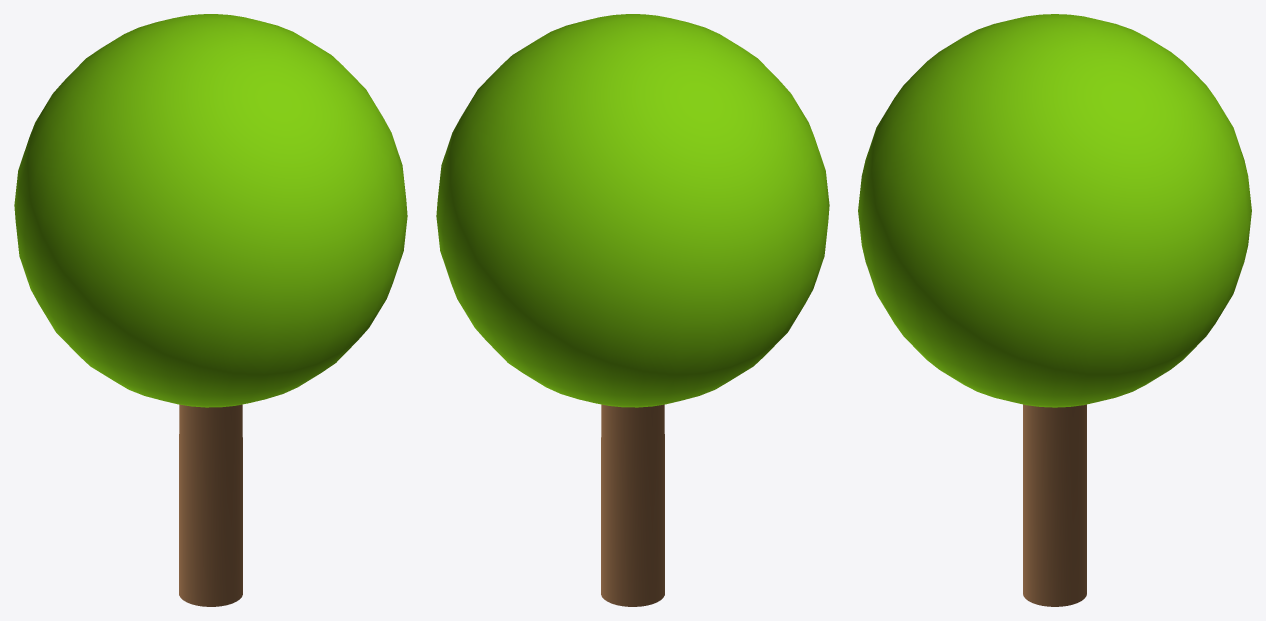
File: tree.glb
3 views of the same model, side by side, from view 1: azimuth 30°, elevation 25°; view 2: azimuth 150°, elevation 25°; view 3: azimuth 270°, elevation 25° (orthographic).
Parts seen in each view (by area): view 1: Sphere_-_copy.019; view 2: Sphere_-_copy.019; view 3: Sphere_-_copy.019.
Part boxes in pixels (x1=…): Sphere_-_copy.019: x1=14, y1=14, x2=407, y2=606; Sphere_-_copy.019: x1=436, y1=14, x2=829, y2=606; Sphere_-_copy.019: x1=858, y1=14, x2=1251, y2=606.
Bounding box in the file's own units: 0.1028 × 0.1624 × 0.1028.
